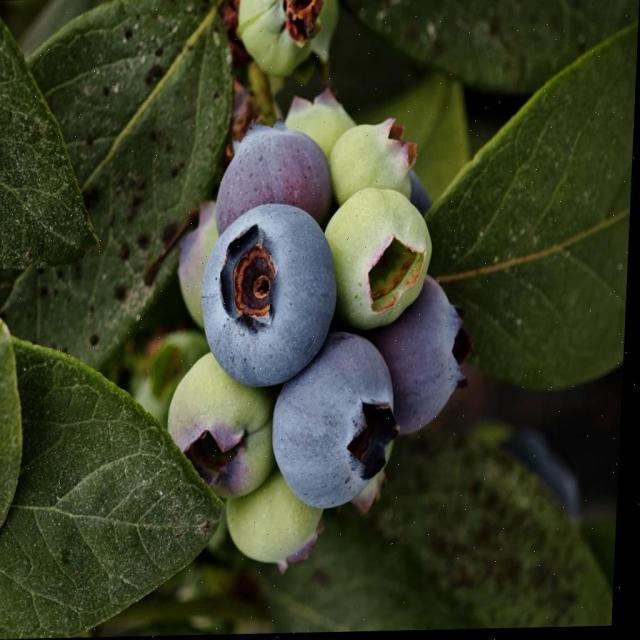RipeBlueBerry: (207, 202, 345, 384), (270, 334, 406, 509)
UnripeBlueBerry: (327, 187, 435, 329)
